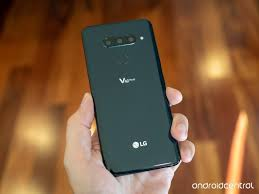lg: (82, 15, 182, 176)
